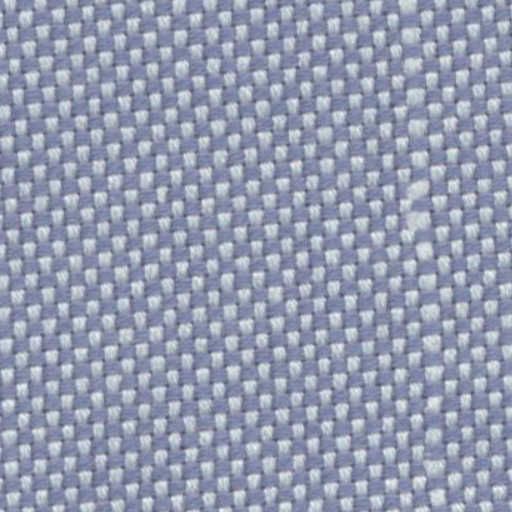TuoSha: (381, 14, 476, 496)
